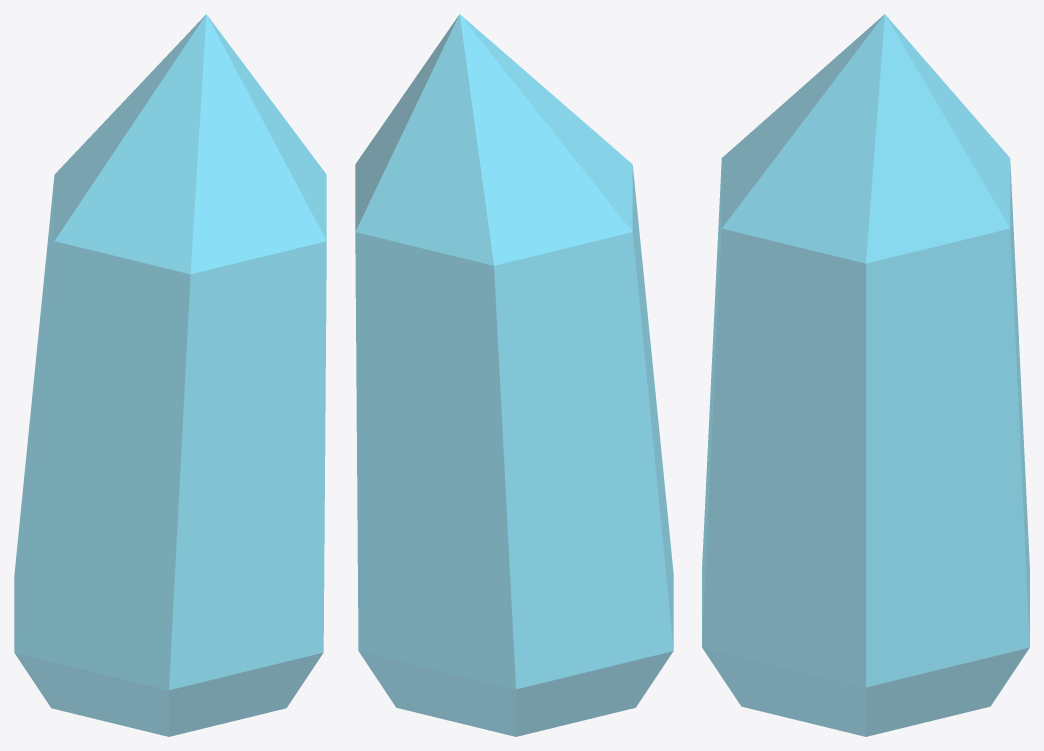
Rendered from blue-crystal.glb.
The picture shows the model from 3 angles, left to right: view 1: azimuth 30°, elevation 25°; view 2: azimuth 150°, elevation 25°; view 3: azimuth 270°, elevation 25°; orthographic projection. The views are drawn at different scales.
Parts seen in each view (by area): view 1: Blue Crystal; view 2: Blue Crystal; view 3: Blue Crystal.
Boxes of the visible parts, <box> form: Blue Crystal: <box>14,14,326,736</box>; Blue Crystal: <box>355,14,673,736</box>; Blue Crystal: <box>702,14,1029,736</box>.
Size of the model in its own units: 0.505 by 1 by 0.433.
